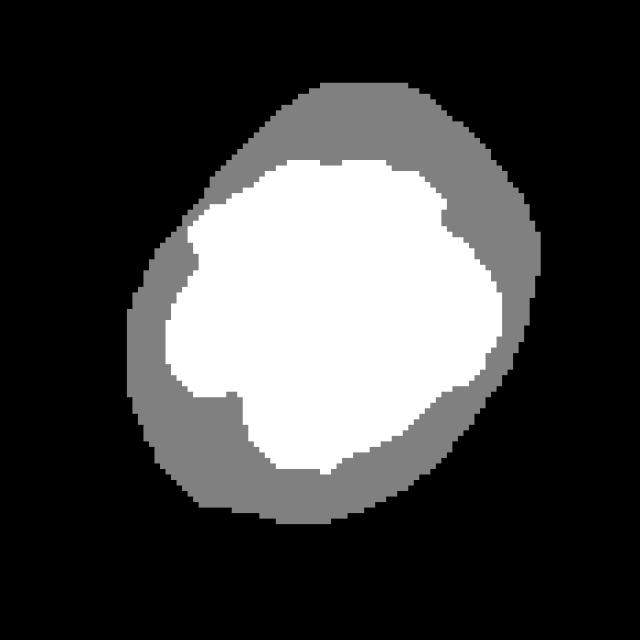WBC: (121, 61, 546, 557)
